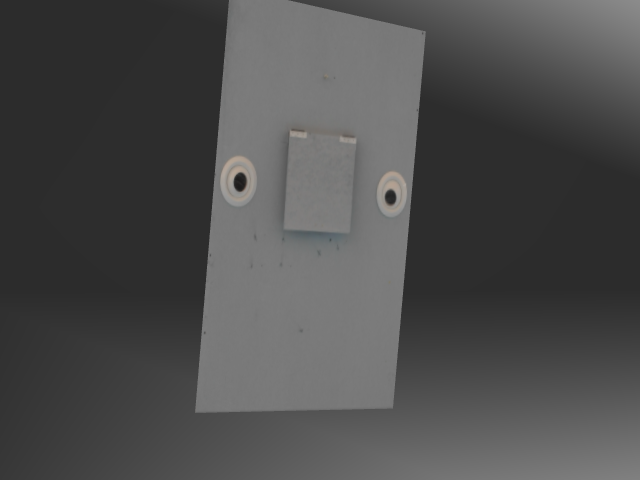facade: (216, 126, 410, 237)
